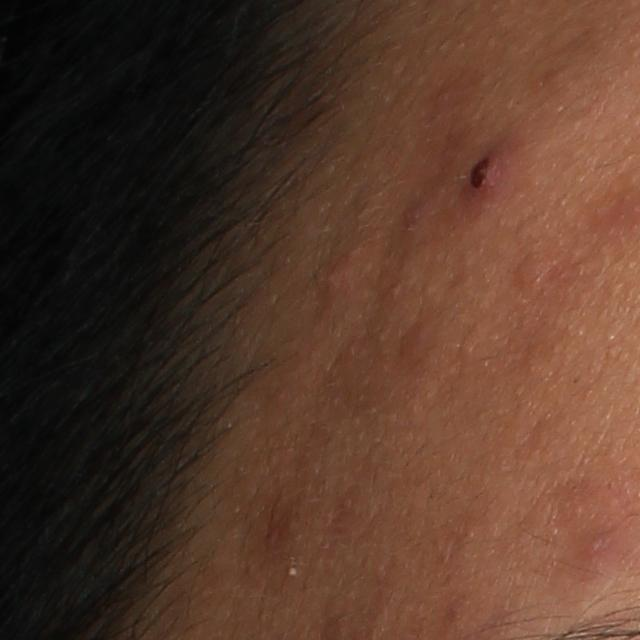papule: (459, 147, 513, 204), (323, 253, 350, 305)
